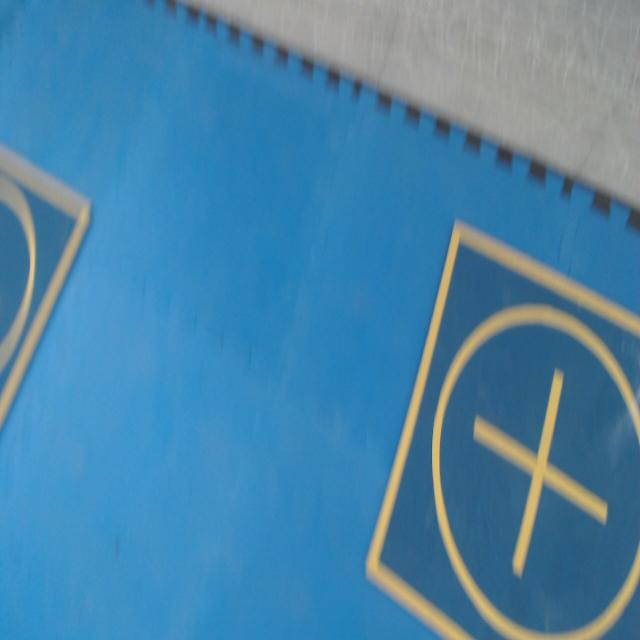base_pouso: (364, 219, 640, 638), (1, 148, 93, 435)
